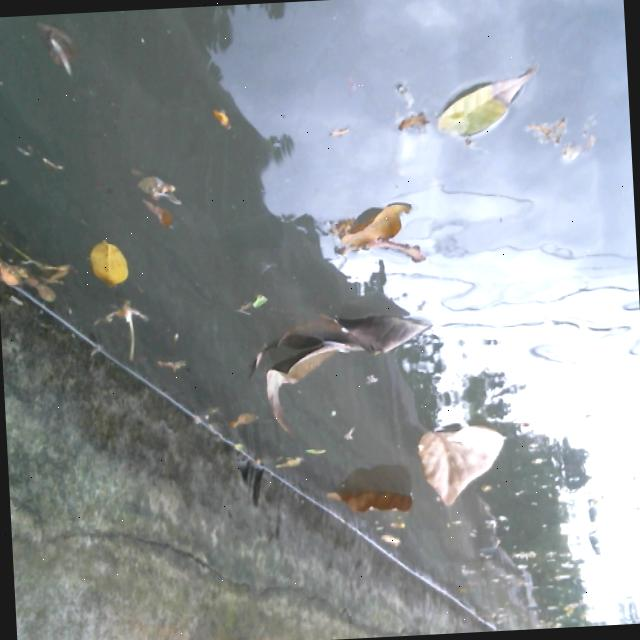Big-leaf: (245, 294, 440, 425), (405, 422, 515, 510), (315, 186, 429, 267), (315, 475, 417, 529)
Small-leaf: (431, 58, 537, 155), (19, 12, 79, 97), (128, 153, 187, 236), (81, 235, 133, 306), (197, 71, 248, 131), (387, 104, 432, 145), (144, 345, 190, 377), (298, 434, 337, 462), (370, 531, 408, 556), (266, 451, 302, 475), (223, 412, 258, 436)
